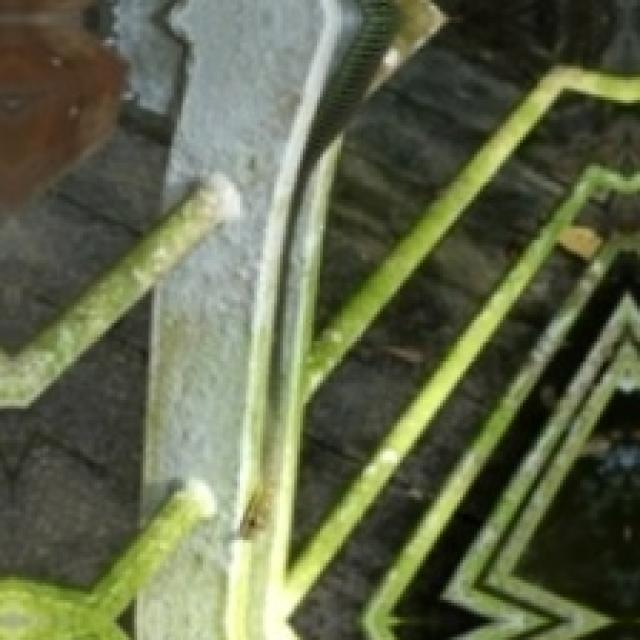paradise tree snake: (228, 0, 442, 640)
